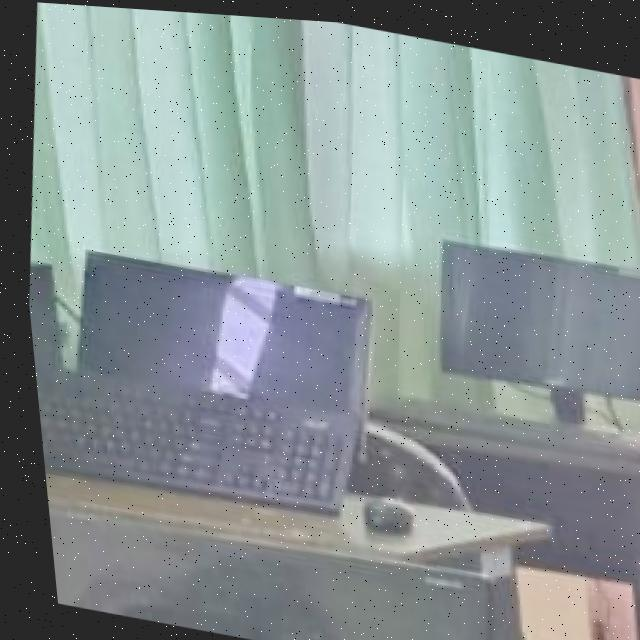offscreen: (76, 252, 363, 410), (435, 236, 640, 390)
